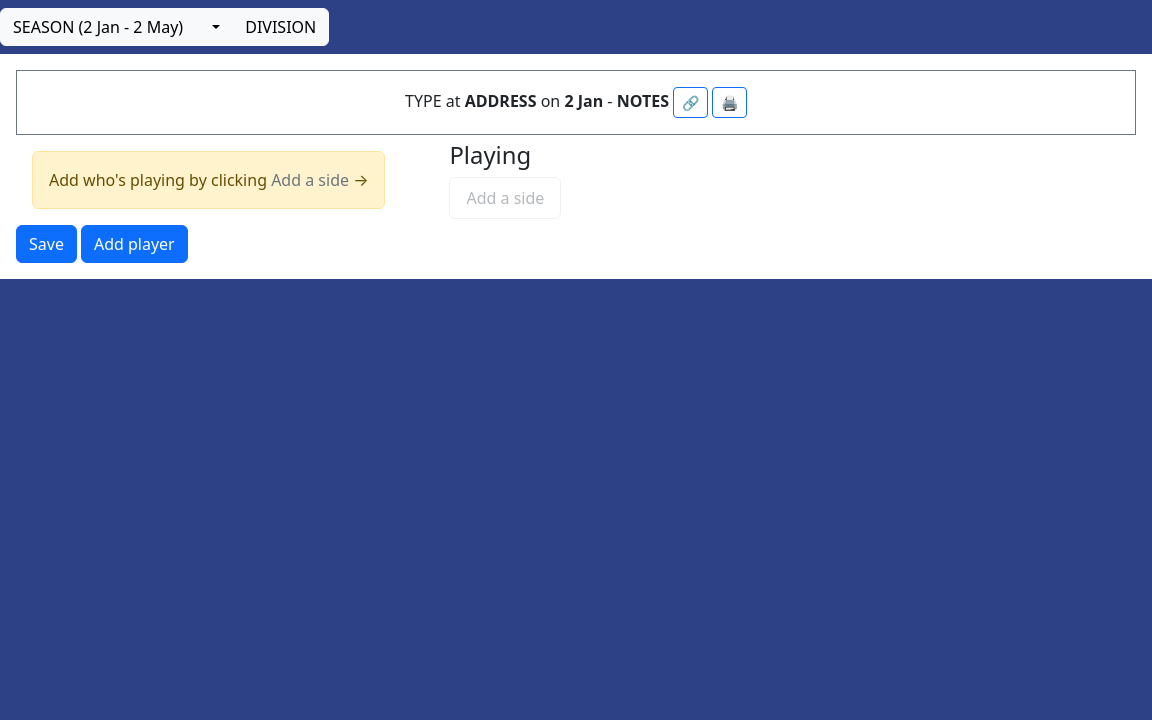
Scenario: Tournament › interactivity › handles error during save
This screenshot has width=1152, height=720.
Click the button "Save" at (46, 244), box left=16, top=225, right=77, bottom=263
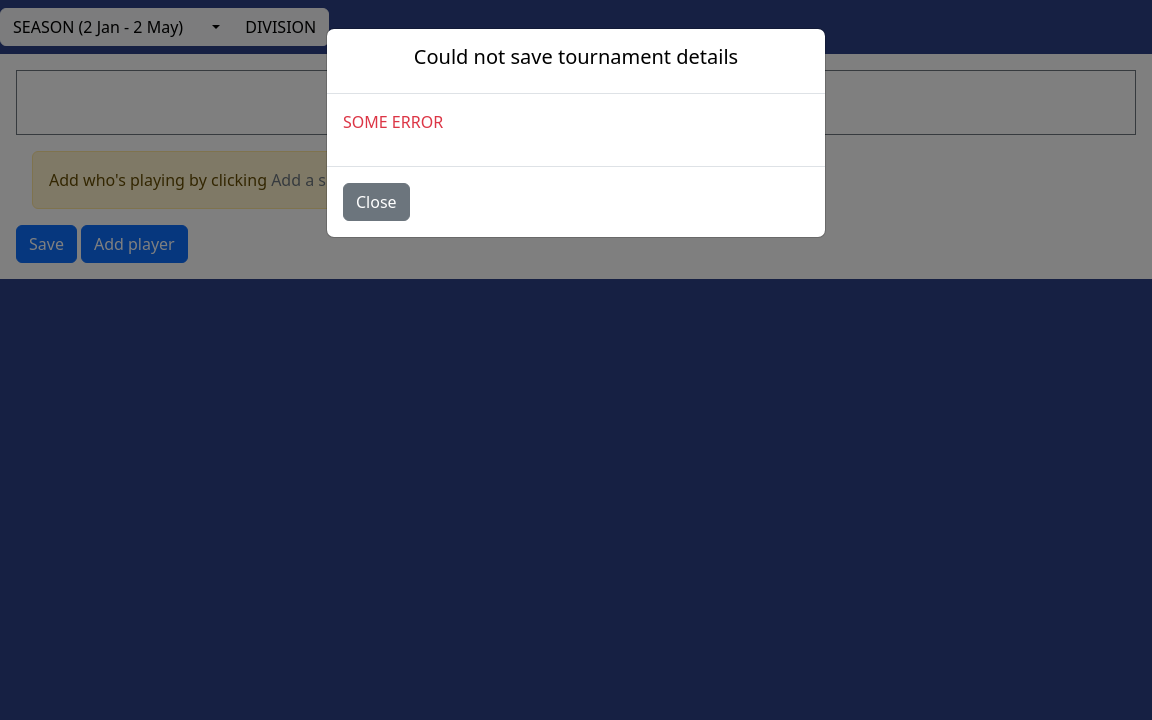
Expected: the text "Could not save tournament details" is shown, left=414, top=45, right=738, bottom=69
Expected: the text "SOME ERROR" is shown, left=343, top=111, right=443, bottom=133
